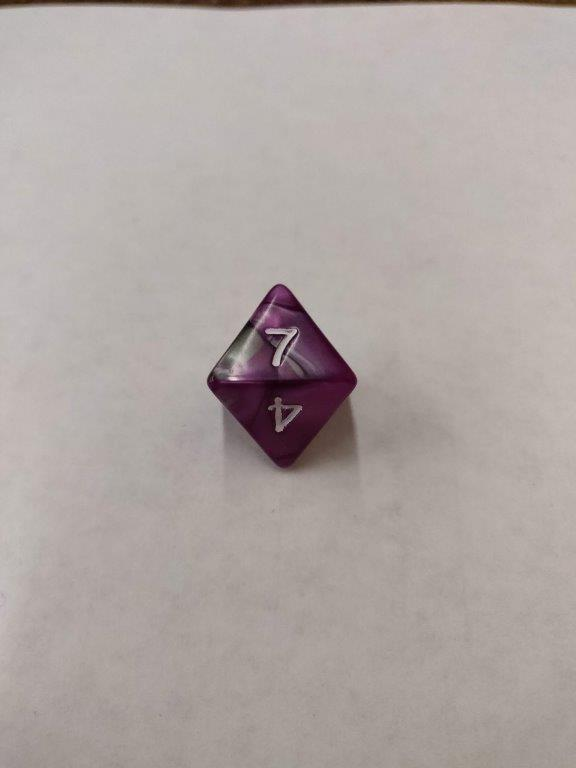d8-7: (205, 279, 358, 470)
